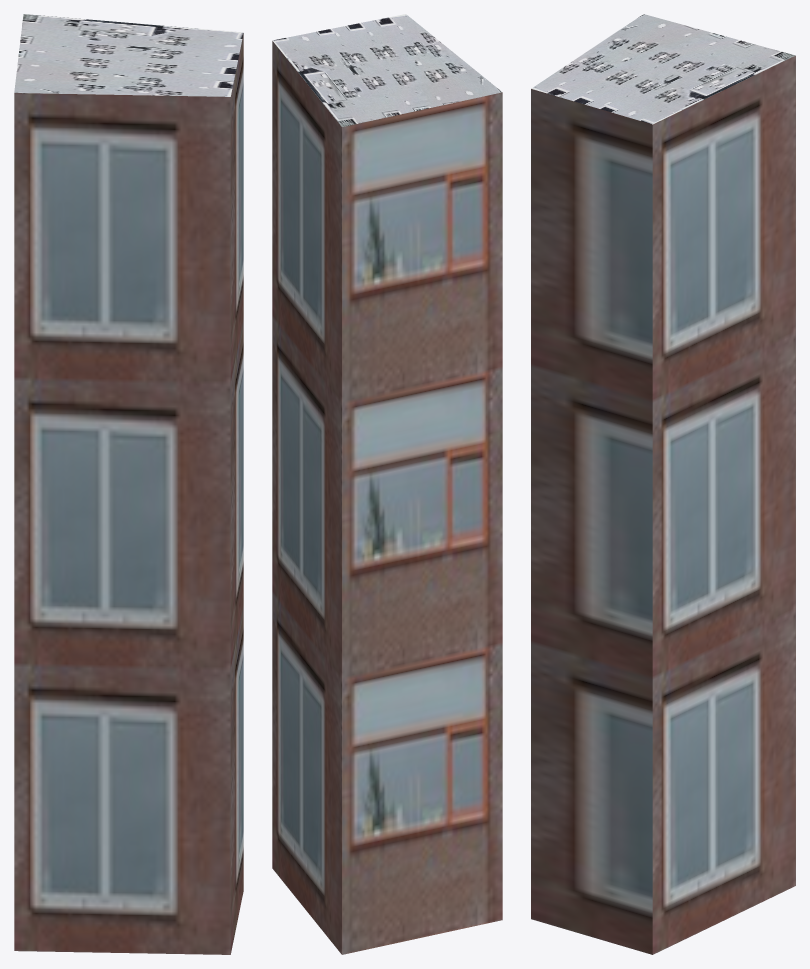
Rendered from ResTex__5327.fbx.
3 views of the same model, side by side, from view 1: azimuth 30°, elevation 25°; view 2: azimuth 150°, elevation 25°; view 3: azimuth 270°, elevation 25° (orthographic). The views are drawn at different scales.
Parts seen in each view (by area): view 1: CityEngineMaterial_19_m, CityEngineMaterial_4_m; view 2: CityEngineMaterial_19_m, CityEngineMaterial_4_m; view 3: CityEngineMaterial_19_m, CityEngineMaterial_4_m.
Boxes of the visible parts, box(x1,y1,x2,y2) form: CityEngineMaterial_19_m: box(14, 34, 243, 954); CityEngineMaterial_4_m: box(14, 14, 243, 96); CityEngineMaterial_19_m: box(272, 41, 502, 954); CityEngineMaterial_4_m: box(272, 14, 502, 126); CityEngineMaterial_19_m: box(531, 55, 795, 954); CityEngineMaterial_4_m: box(531, 14, 795, 124).
Size of the model in its own units: 2.57 by 9 by 2.6.
2 materials, 2 textured.
